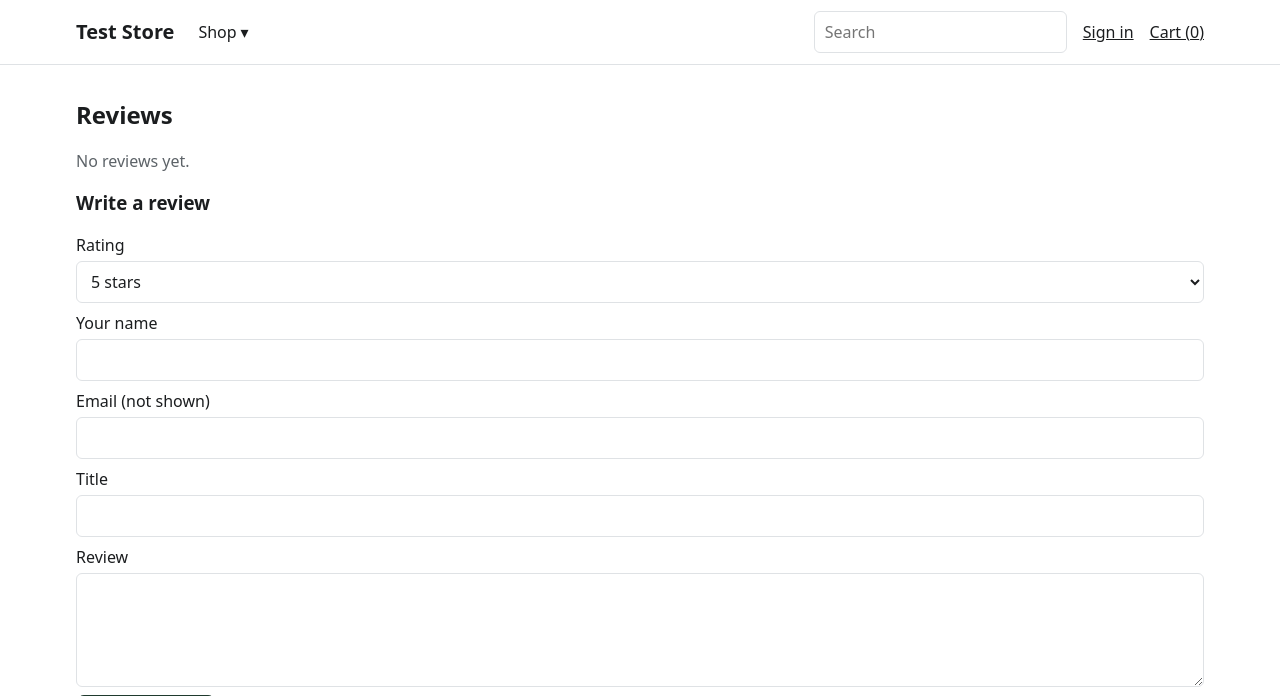
Scenario: Product detail › submits a review and tells the shopper it is pending moderation
(page scrolled)
Expected: the heading "Write a review" is shown, [76,190,210,215]
Type "Sam" into the field labelled "Your name" at (640, 360), box [76,339,1204,381]
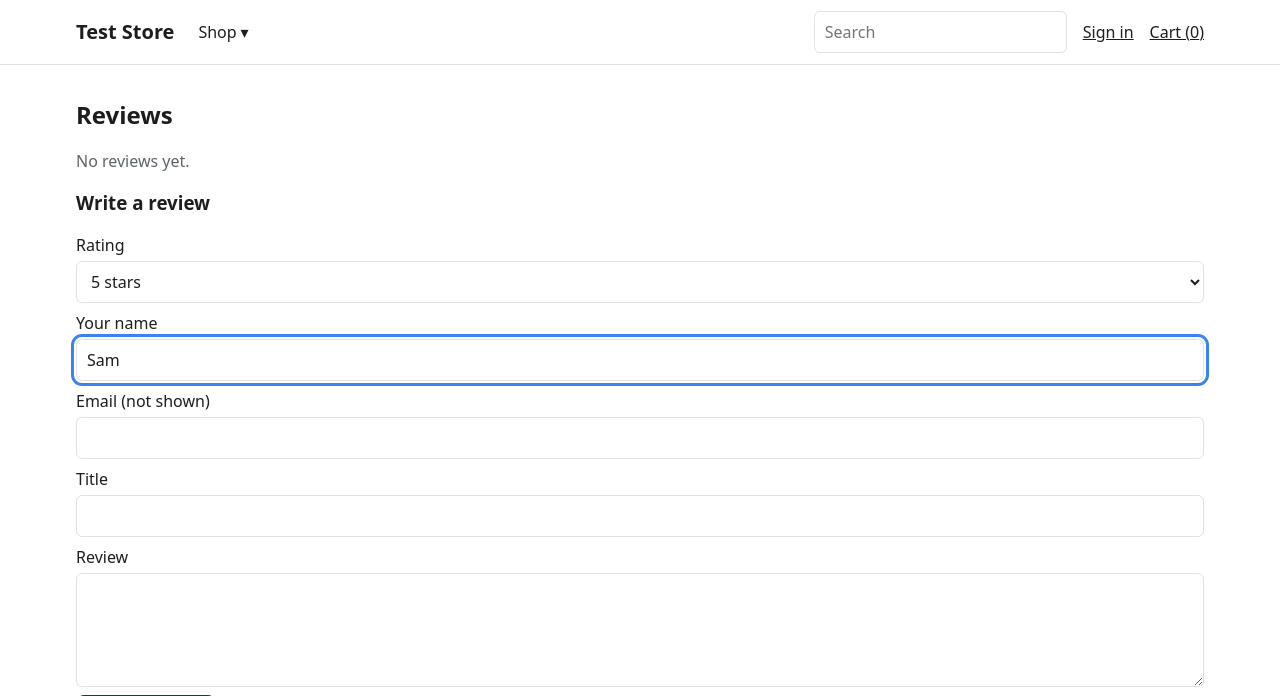
Type "sam@example.com" into the field labelled "Email (not shown)" at (640, 438), box [76,417,1204,459]
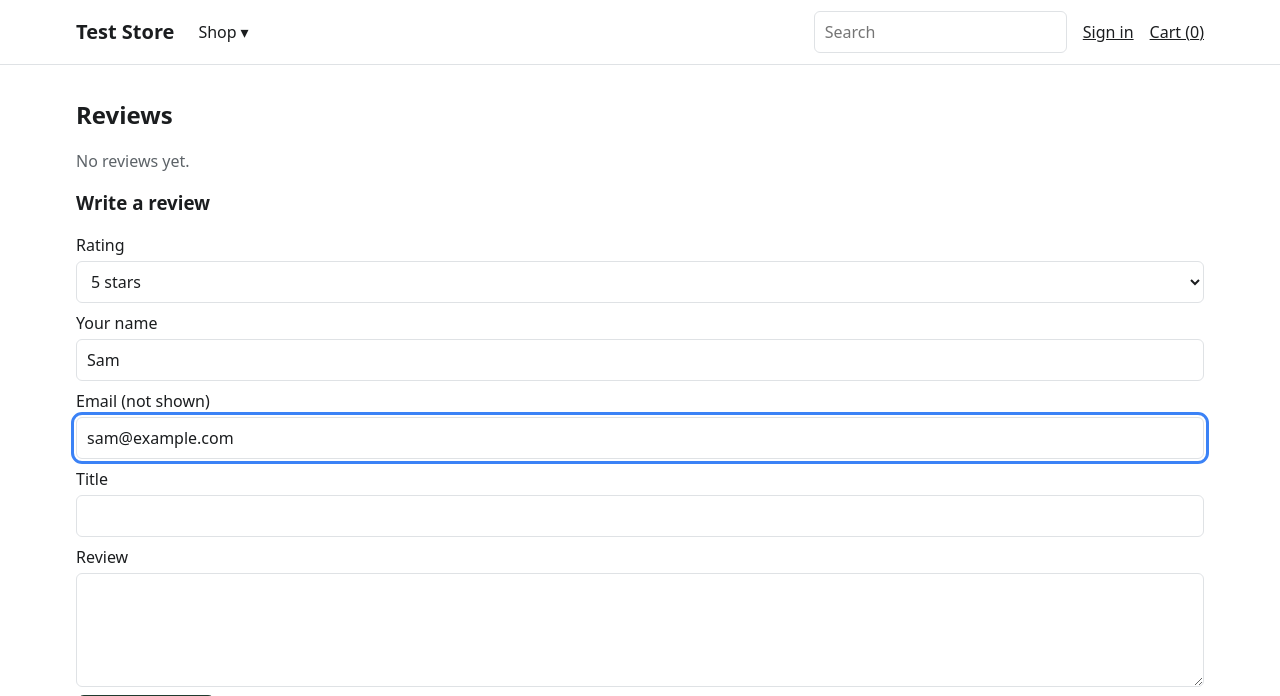
Type "Really nice" into the text box labelled "Review" at (640, 630), box [76,573,1204,687]
(page scrolled)
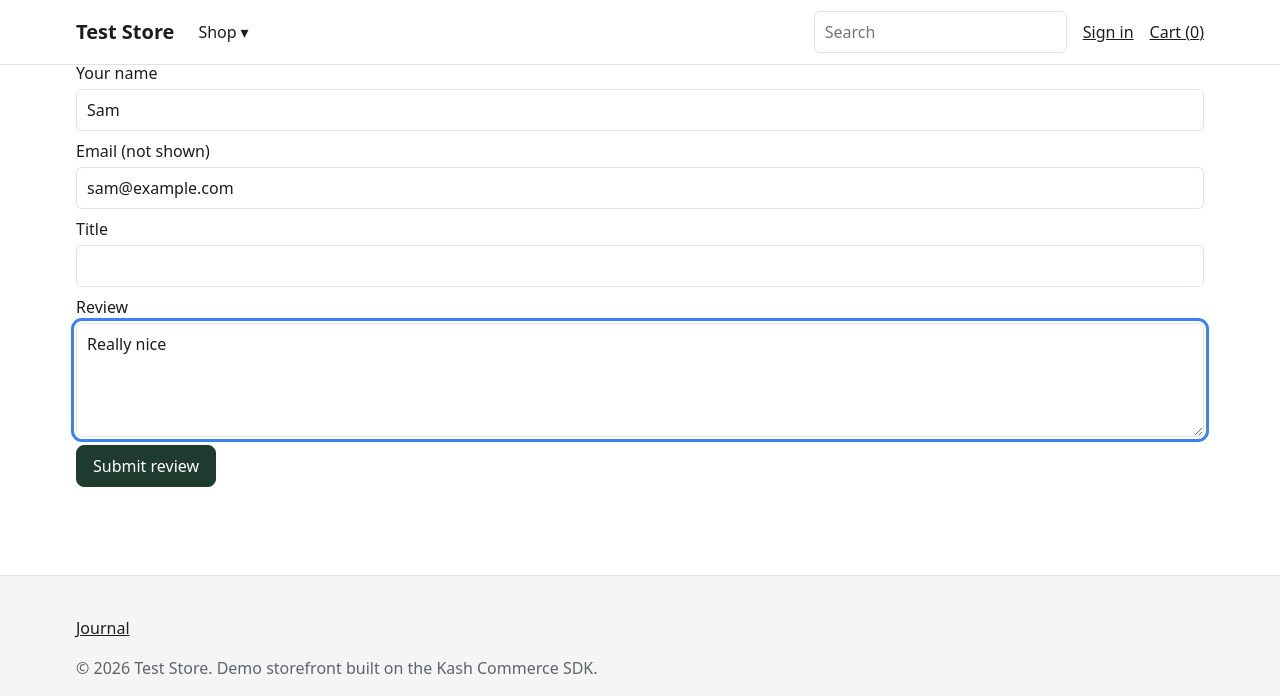
Click the button "Submit review" at (146, 466), box [76,445,216,487]
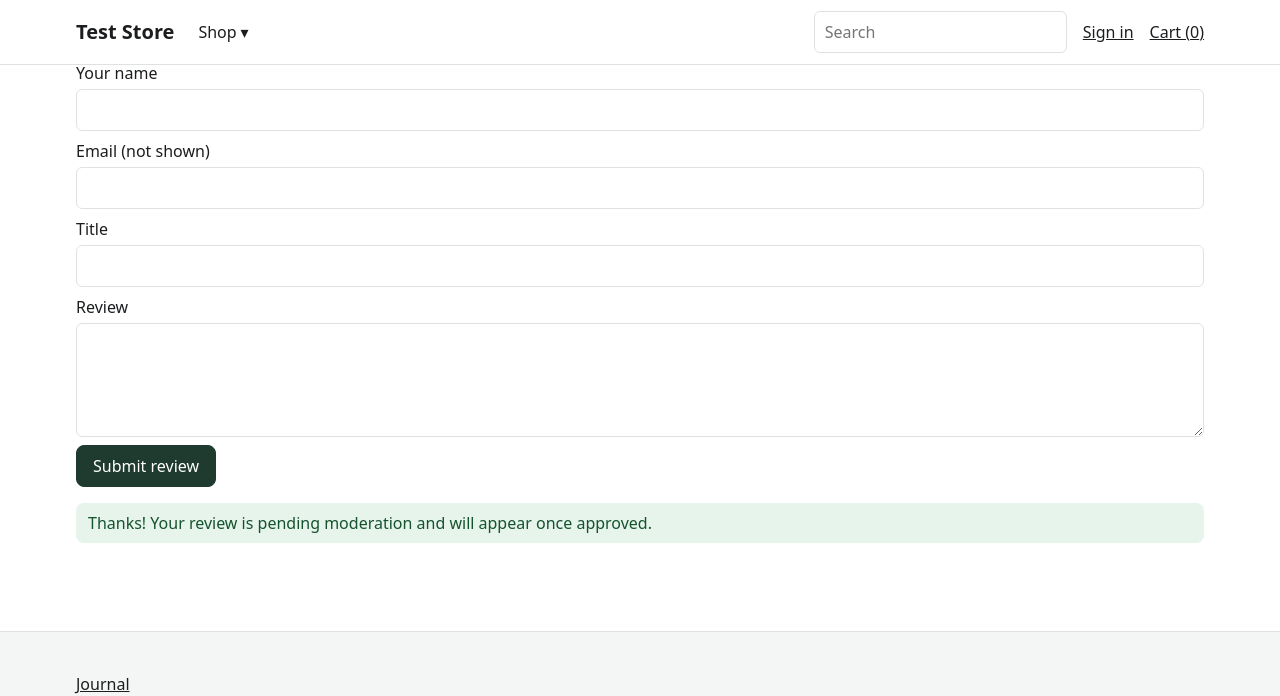
Expected: the text "Thanks! Your review is pending moderation and will appear once approved." is shown, [76,503,1204,543]
